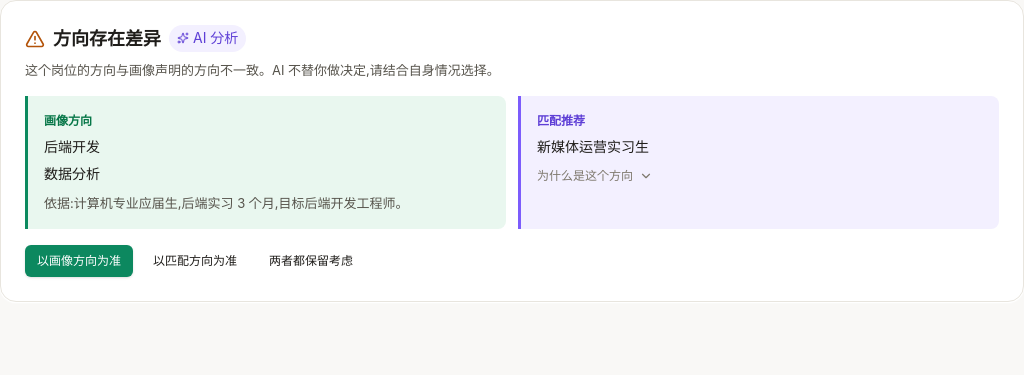
Scenario: DirectionConflictCard 方向冲突对比块 › 「为什么是这个方向」折叠:默认隐藏理由,展开显示 ai-insight 与 reason
Check: the text "画像声明目标为后端开发" is not shown
What coordinates should you click on to do the following:
click the button "为什么是这个方向"
I would click on:
 (585, 175)
Its box is [537,166,983,184].
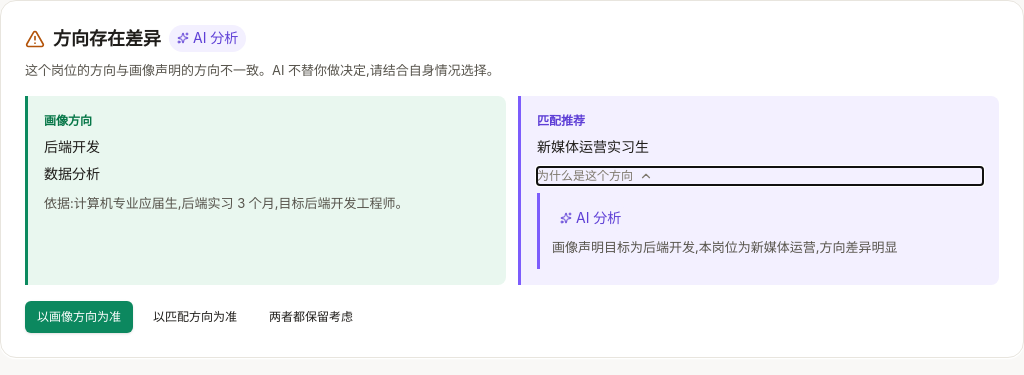
Check: the text "画像声明目标为后端开发,本岗位为新媒体运营,方向差异明显" is shown, box [552,239,898,255]
